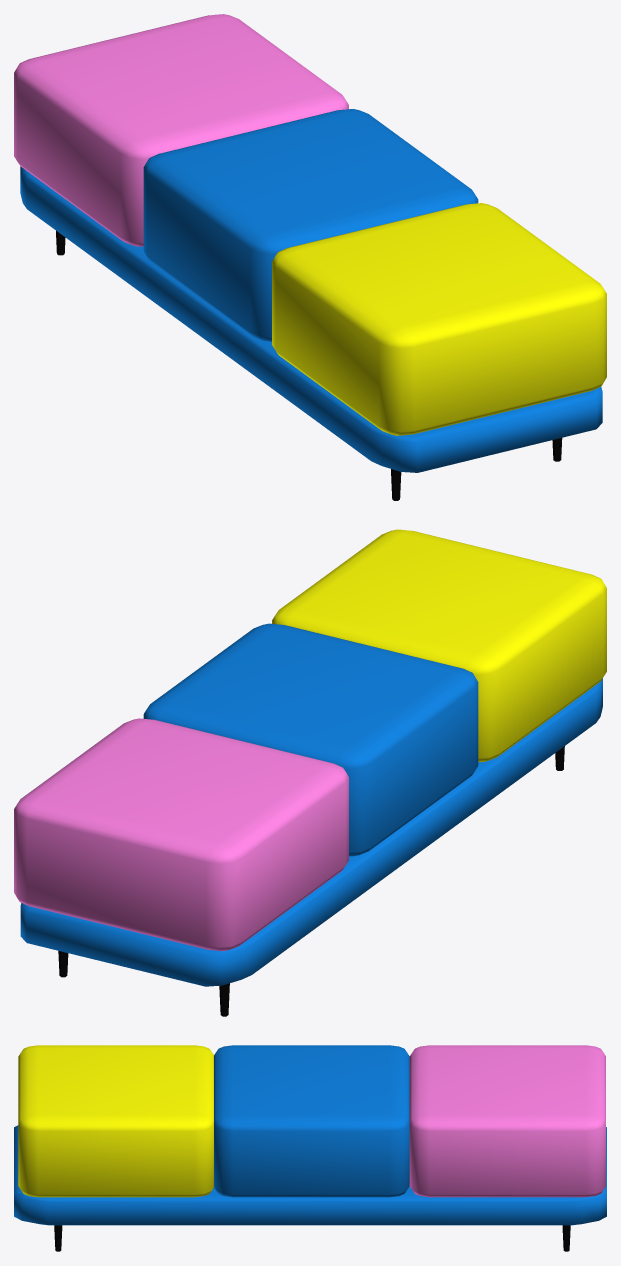
File: Banquinho.glb
3 renders of one model, top to bottom at view 1: azimuth 30°, elevation 25°; view 2: azimuth 150°, elevation 25°; view 3: azimuth 270°, elevation 25°, orthographic. The views are drawn at different scales.
Visible parts, largest first — view 1: Cube.017, Cube, Cube.016, Cube.018; view 2: Cube, Cube.016, Cube.017, Cube.018; view 3: Cube, Cube.016, Cube.017, Cube.018.
Part boxes in pixels (bbox=[...]): Cube.017: bbox=[272, 203, 606, 435]; Cube: bbox=[14, 14, 348, 246]; Cube.016: bbox=[143, 109, 478, 341]; Cube.018: bbox=[20, 166, 602, 472]; Cube: bbox=[14, 718, 348, 951]; Cube.016: bbox=[143, 623, 478, 856]; Cube.017: bbox=[272, 529, 606, 762]; Cube.018: bbox=[20, 678, 602, 986]; Cube: bbox=[409, 1045, 605, 1197]; Cube.016: bbox=[214, 1045, 409, 1197]; Cube.017: bbox=[18, 1045, 213, 1197]; Cube.018: bbox=[14, 1125, 606, 1225].
Bounding box in the file's own units: 0.8016 × 0.6282 × 2.42.
Materials: 1 (1 with a texture image).
